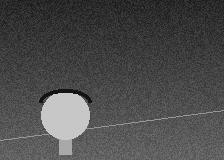no_helmet: (41, 89, 89, 144)
